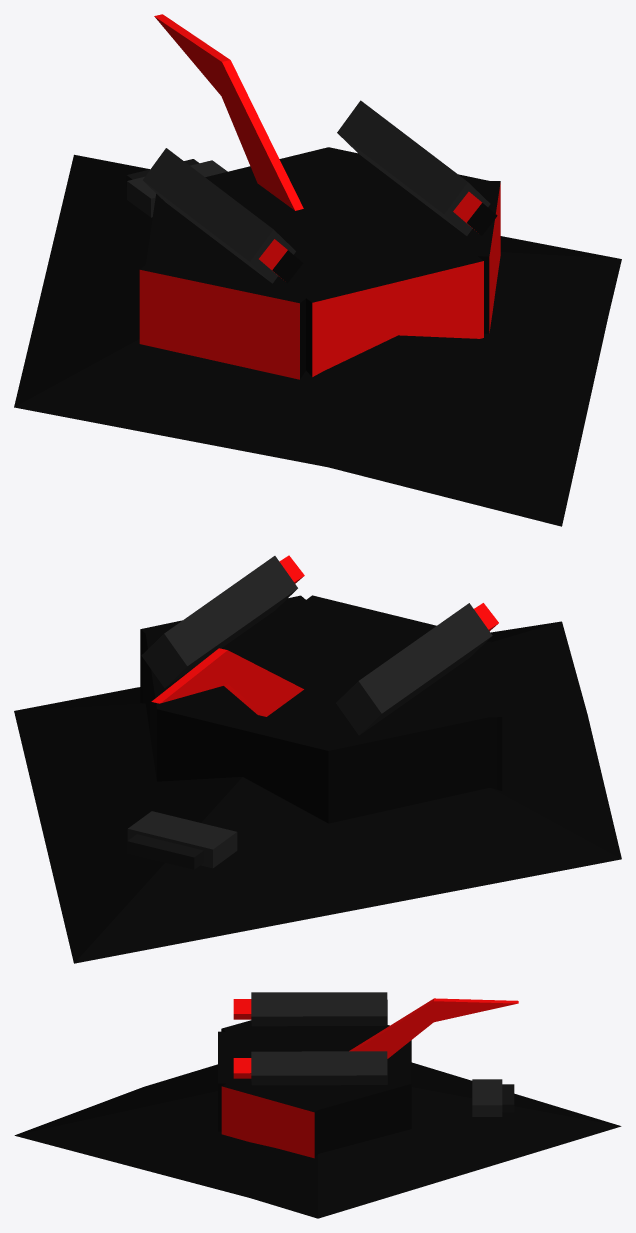
Rendered from Complete Enemy Lazarous ship OBJ.obj.
3 renders of one model, top to bottom at view 1: azimuth 30°, elevation 25°; view 2: azimuth 150°, elevation 25°; view 3: azimuth 270°, elevation 25°, orthographic. The views are drawn at different scales.
Parts seen in each view (by area): view 1: pPyramid1, pCylinder1, pCylinder3, pasted__pCylinder3 group1, pCube4, pCube2; view 2: pPyramid1, pCylinder1, pCylinder3, pasted__pCylinder3 group1, pCube4, pCube2, pasted__pCube2 group2; view 3: pPyramid1, pCylinder1, pasted__pCylinder3 group1, pCylinder3, pCube4, pCube2, pasted__pCube2 group2.
Boxes of the visible parts, x1,y1,x2,y2 form: pPyramid1: [14, 154, 621, 526]; pCylinder1: [139, 147, 500, 379]; pCylinder3: [143, 148, 302, 283]; pasted__pCylinder3 group1: [337, 100, 497, 235]; pCube4: [154, 14, 303, 210]; pCube2: [127, 160, 227, 217]; pPyramid1: [14, 621, 621, 963]; pCylinder1: [140, 595, 502, 823]; pCylinder3: [336, 603, 498, 735]; pasted__pCylinder3 group1: [141, 555, 304, 688]; pCube4: [151, 648, 303, 716]; pCube2: [127, 811, 237, 868]; pasted__pCube2 group2: [127, 834, 203, 869]; pPyramid1: [14, 1062, 621, 1218]; pCylinder1: [218, 1020, 411, 1158]; pasted__pCylinder3 group1: [233, 1051, 387, 1085]; pCylinder3: [233, 992, 387, 1026]; pCube4: [349, 998, 518, 1058]; pCube2: [472, 1079, 502, 1116]; pasted__pCube2 group2: [502, 1084, 514, 1112].
Bounding box in the file's own units: 14.52 × 4.99 × 20.19.
